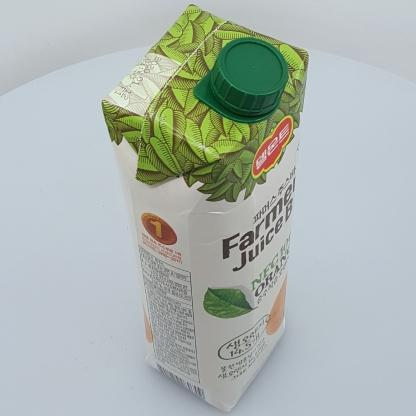------------1L: (101, 4, 309, 413)
